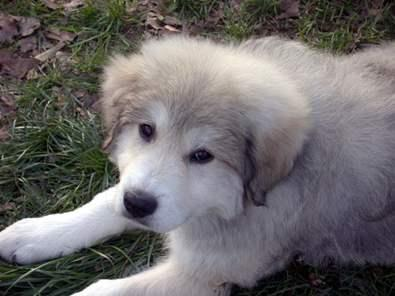Great_Pyrenees: (0, 30, 394, 295)
